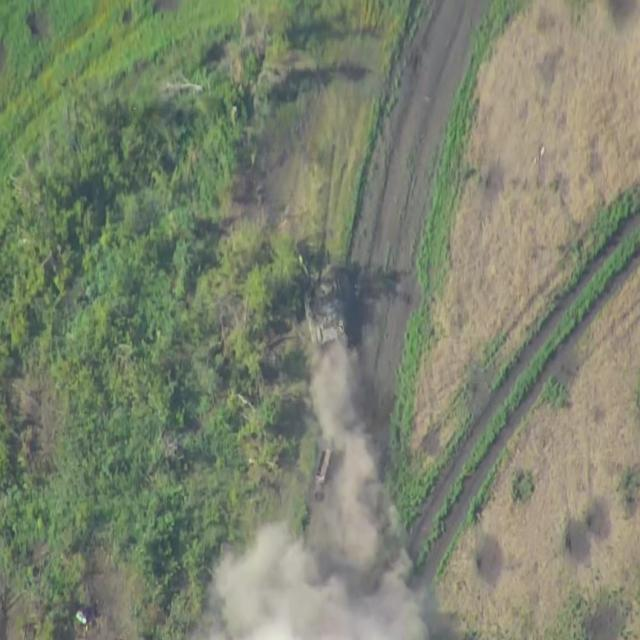MBT: (288, 240, 355, 356)
